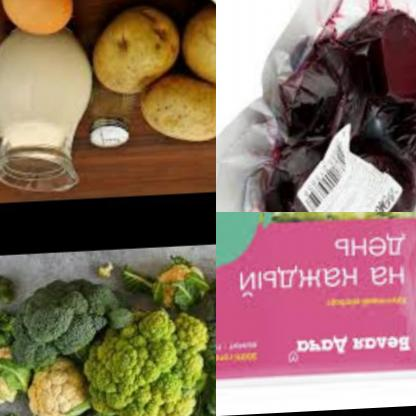beet: (260, 6, 416, 212)
broccoli: (0, 270, 111, 365), (192, 268, 216, 416)
cayliflower: (86, 311, 210, 416), (31, 358, 96, 416), (0, 342, 27, 412)
potato: (95, 4, 216, 150)
